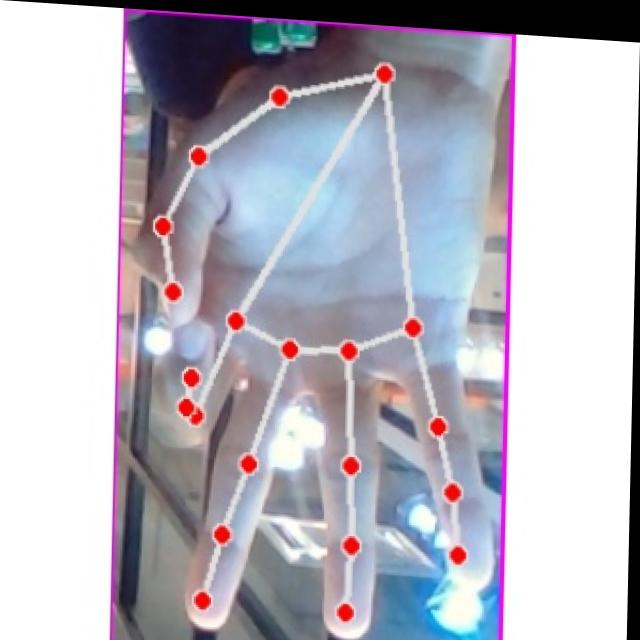F: (125, 52, 507, 640)
